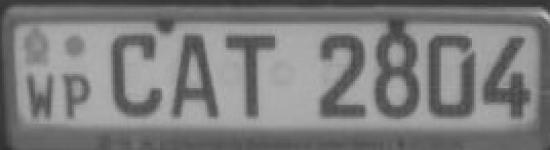0: (423, 28, 480, 122)
2: (312, 32, 371, 121)
4: (481, 30, 537, 124)
8: (371, 29, 425, 121)
A: (168, 30, 222, 123)
C: (106, 27, 166, 123)
P: (61, 70, 95, 122)
T: (219, 26, 282, 121)
W: (24, 70, 59, 122)
